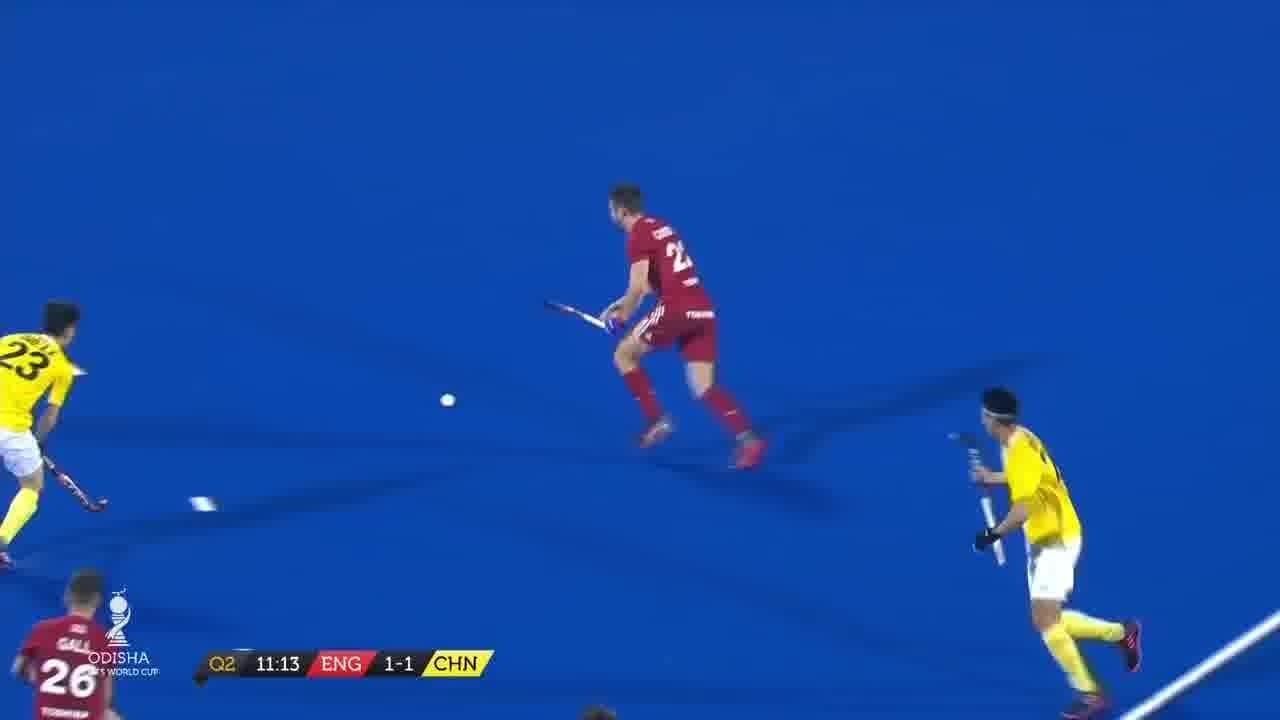ball: (438, 392, 466, 410)
